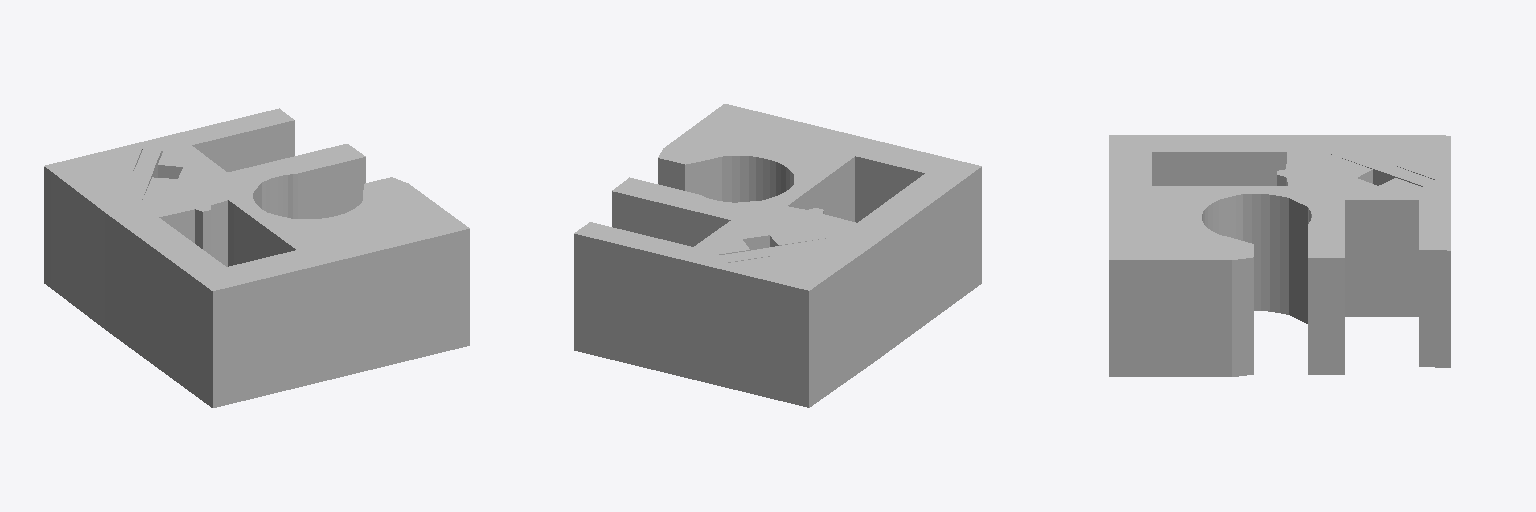
The model's file is mainnavmeshasvolume.obj.
The picture shows the model from 3 angles: view 1: azimuth 30°, elevation 25°; view 2: azimuth 150°, elevation 25°; view 3: azimuth 270°, elevation 25°; orthographic projection.
Visible parts, largest first — view 1: Plane.003_Plane; view 2: Plane.003_Plane; view 3: Plane.003_Plane.
Boxes of the visible parts, x1,y1,x2,y2 form: Plane.003_Plane: [44, 108, 469, 407]; Plane.003_Plane: [574, 104, 981, 407]; Plane.003_Plane: [1109, 135, 1450, 376].
Bounding box in the file's own units: 32.95 × 14.32 × 37.87.